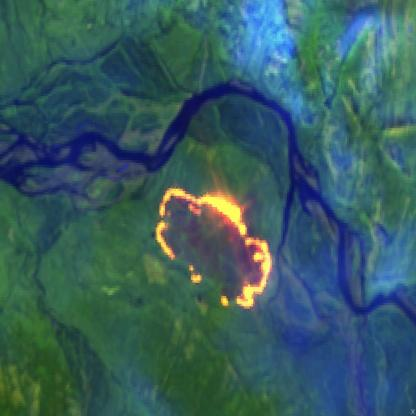fire: (151, 181, 276, 318)
